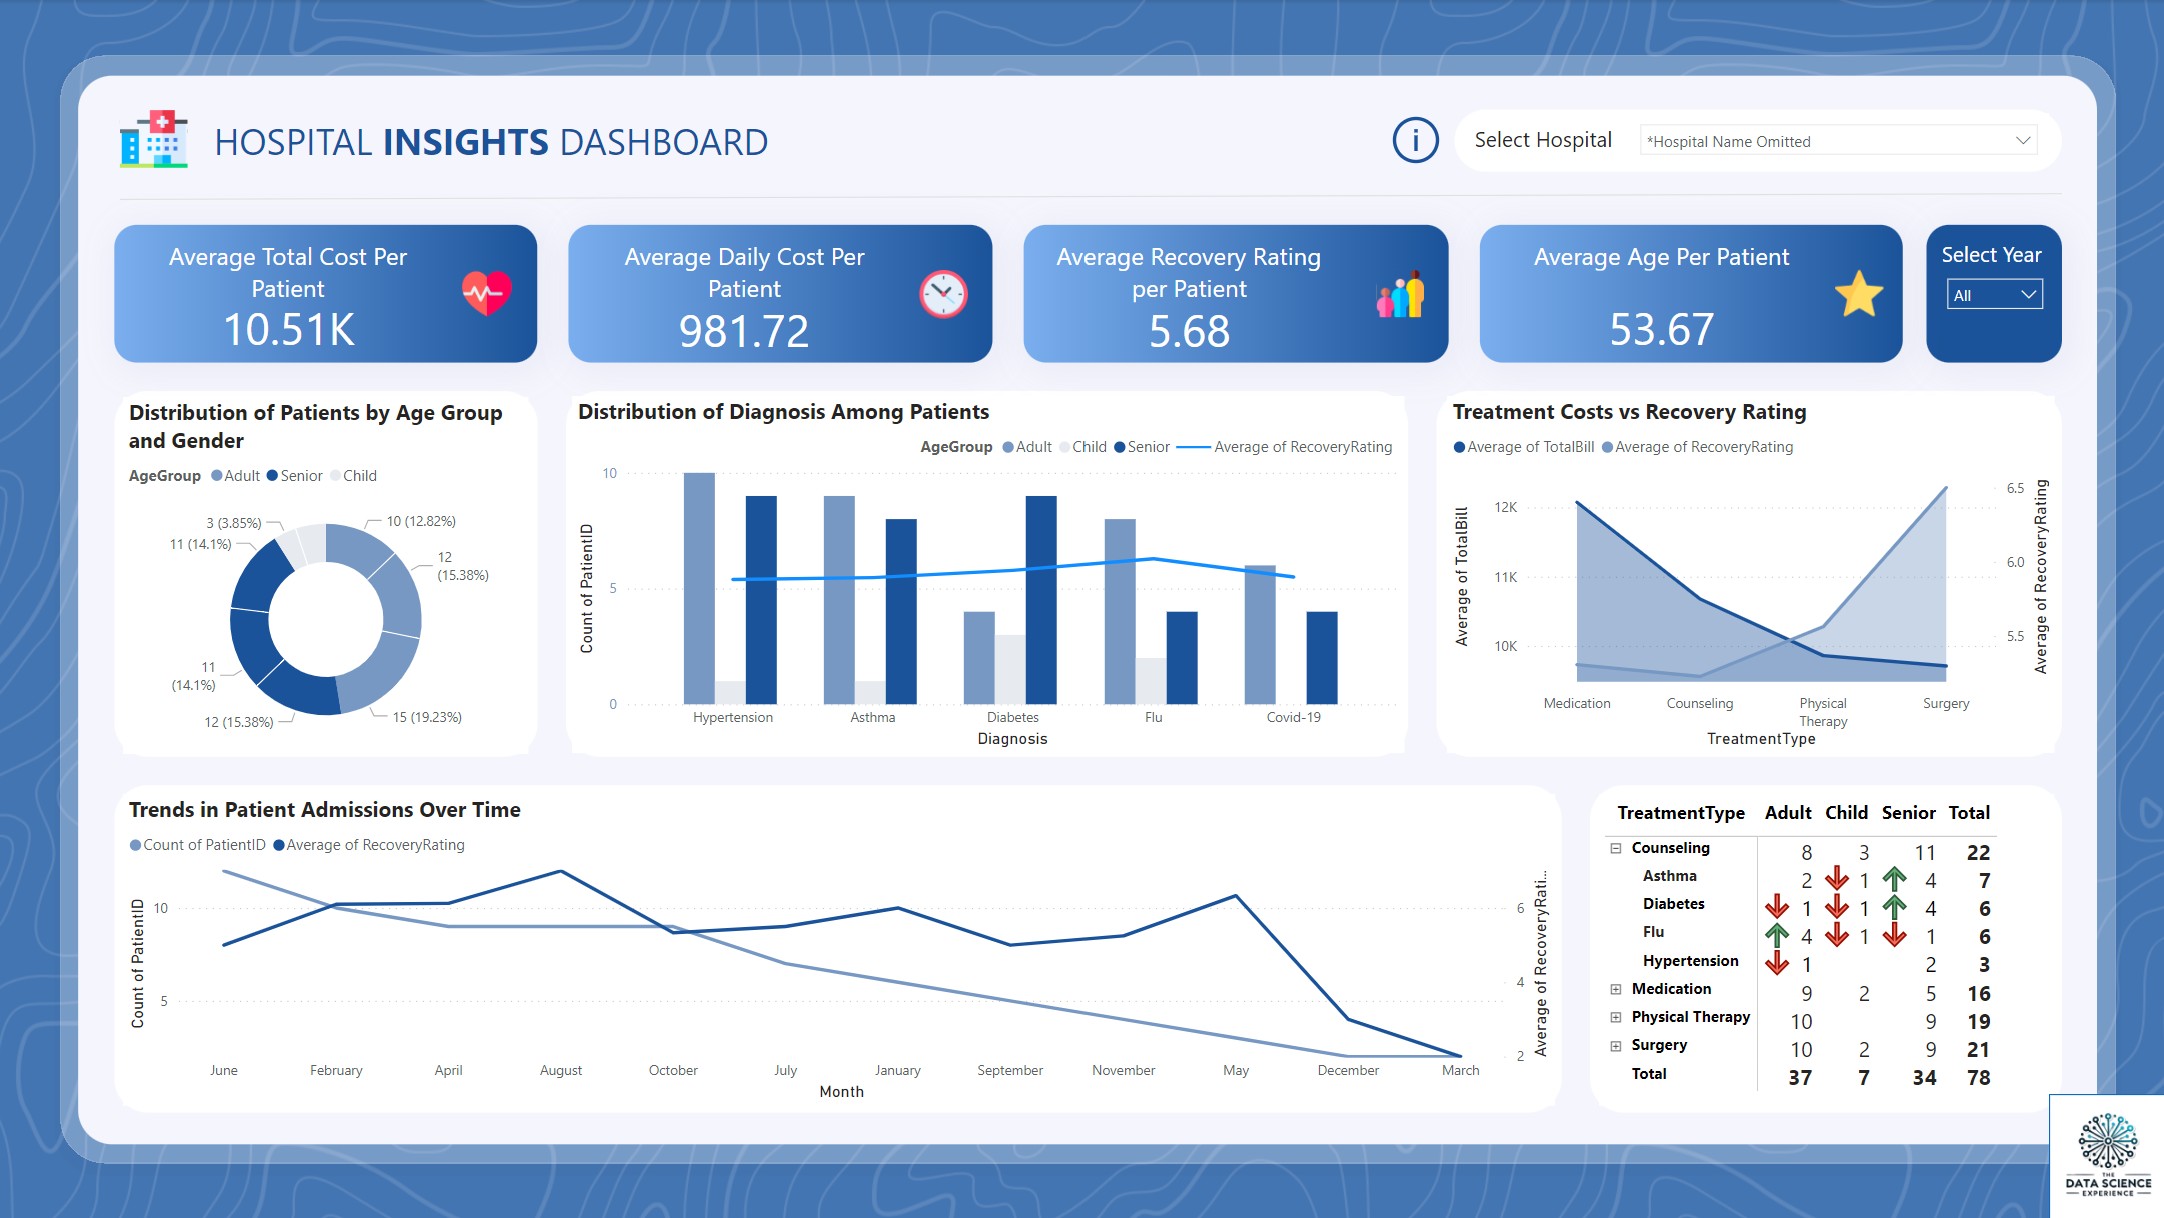

What the dashboard file says about the page in this screenshot:
{"tool":"powerbi","page":{"name":"Hospital Insights Dahboard","canvas":[1920,1080],"ordinal":0},"visuals":[{"type":"textbox","box":[185.9,97.4,670,71.9],"z":1000},{"type":"donutChart","title":"Distribution of Patients by Age Group and Gender","fields":{"Category":["Sheet1.AgeGroup"],"Y":["CountNonNull(Sheet1.Age)"],"Series":["Sheet1.Gender"]},"box":[110.3,351.2,359.2,316.2],"z":3000},{"type":"lineClusteredColumnComboChart","title":"Distribution of Diagnosis Among Patients","fields":{"Category":["Sheet1.Diagnosis"],"Y":["CountNonNull(Sheet1.PatientID)"],"Y2":["Avg(Sheet1 (2).RecoveryRating)"],"Series":["Sheet1.AgeGroup"]},"box":[508.1,350.7,735.9,316.3],"z":4000},{"type":"areaChart","title":"Treatment Costs vs Recovery Rating","fields":{"Category":["Sheet1 (2).TreatmentType"],"Y":["Avg(Sheet1.TotalBill)"],"Y2":["Avg(Sheet1 (2).RecoveryRating)"]},"box":[1281.5,350.7,538.1,316.3],"z":5000},{"type":"pivotTable","fields":{"Rows":["Sheet1 (2).TreatmentType","Sheet1.Diagnosis"],"Columns":["Sheet1.AgeGroup"],"Values":["CountNonNull(Sheet1.PatientID)"]},"box":[1416.4,703,403.2,275.8],"z":6000},{"type":"lineChart","title":"Trends in Patient Admissions Over Time","fields":{"Y":["CountNonNull(Sheet1.PatientID)"],"Category":["Sheet1.Month"],"Y2":["Avg(Sheet1 (2).RecoveryRating)"]},"box":[110.9,703,1266.5,275.8],"z":7000},{"type":"card","title":"Average Total Cost Per Patient","fields":{"Values":["Avg(Sheet1.TotalBill)"]},"box":[139.4,211.3,235.3,101.9],"z":8000},{"type":"card","title":"Average Daily Cost Per Patient","fields":{"Values":["Avg(Sheet1 (2).DailyCost)"]},"box":[545.6,211.3,230.8,101.9],"z":9000},{"type":"card","title":"Average Recovery Rating per Patient","fields":{"Values":["Avg(Sheet1 (2).RecoveryRating)"]},"box":[923.3,211.3,260.8,101.9],"z":10000},{"type":"card","title":"Average Age Per Patient","fields":{"Values":["Avg(Sheet1.Age)"]},"box":[1353.4,211.3,236.8,125.9],"z":11000},{"type":"slicer","title":"Select Hospital","fields":{"Values":["Sheet1 (2).Hospital"]},"box":[1443.4,100.4,371.7,46.5],"z":12000},{"type":"slicer","title":"Select Year","fields":{"Values":["Sheet1.Year"]},"box":[1714.7,211.3,104.9,71.9],"z":13000},{"type":"textbox","box":[1301,104.9,142.4,39],"z":14000},{"type":"shape","box":[1814.8,968.5,105.3,112.4],"z":15000},{"type":"image","box":[1814.8,968.5,105.3,111.5],"z":16000},{"type":"actionButton","box":[1227.8,97.4,54,53.1],"z":17000},{"type":"card","fields":{"Values":["Sum(Sheet1.Age)"]},"box":[1227.8,101.8,54,46],"z":17500}]}

Visuals, with their boxes in screenshot pixels (x1, y1, x2, y2), scaled from the page's 1920x1080 canvas onto the 2164x1218 screenshot:
textbox: locate(210, 110, 965, 191)
"Distribution of Patients by Age Group and Gender" donutChart: locate(124, 396, 529, 753)
"Distribution of Diagnosis Among Patients" lineClusteredColumnComboChart: locate(573, 396, 1402, 752)
"Treatment Costs vs Recovery Rating" areaChart: locate(1444, 396, 2051, 752)
pivotTable - Sheet1 (2).TreatmentType x Sheet1.Diagnosis: locate(1596, 793, 2051, 1104)
"Trends in Patient Admissions Over Time" lineChart: locate(125, 793, 1552, 1104)
"Average Total Cost Per Patient" card: locate(157, 238, 422, 353)
"Average Daily Cost Per Patient" card: locate(615, 238, 875, 353)
"Average Recovery Rating per Patient" card: locate(1041, 238, 1335, 353)
"Average Age Per Patient" card: locate(1525, 238, 1792, 380)
"Select Hospital" slicer: locate(1627, 113, 2046, 166)
"Select Year" slicer: locate(1933, 238, 2051, 319)
textbox: locate(1466, 118, 1627, 162)
shape: locate(2045, 1092, 2163, 1217)
image: locate(2045, 1092, 2163, 1217)
actionButton: locate(1384, 110, 1445, 170)
card - Sum(Sheet1.Age): locate(1384, 115, 1445, 167)
